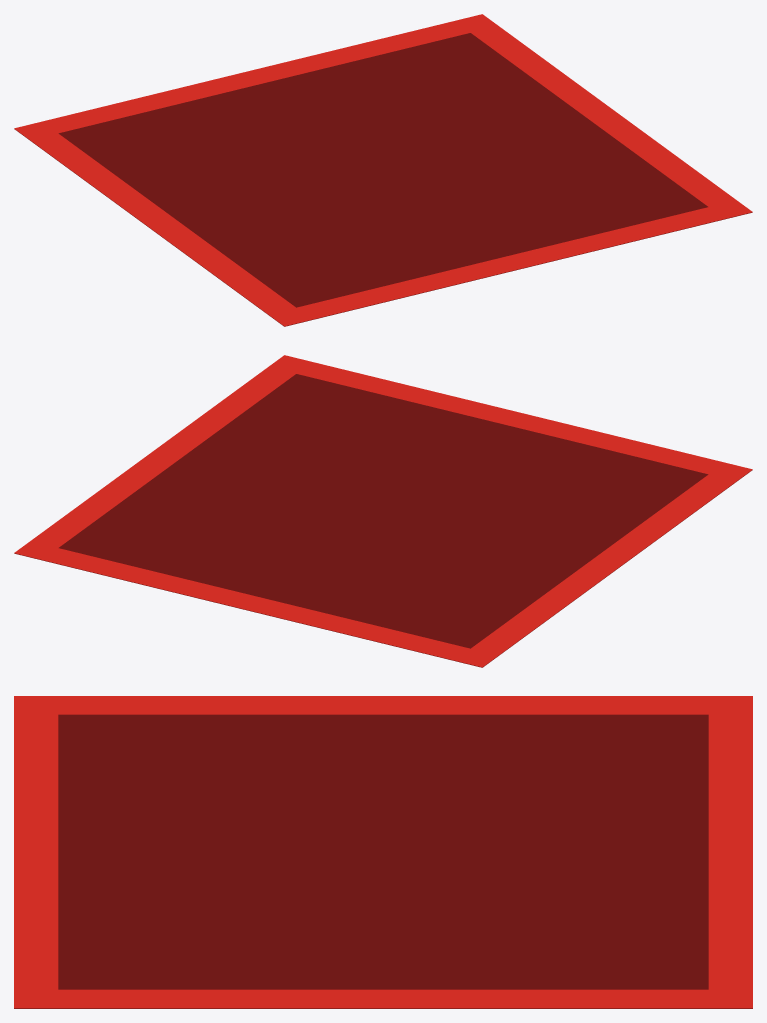
File: telegraph_square.glb
3 renders of one model, top to bottom at view 1: azimuth 30°, elevation 25°; view 2: azimuth 150°, elevation 25°; view 3: azimuth 270°, elevation 25°, orthographic. The views are drawn at different scales.
Parts seen in each view (by area): view 1: telegraph_square; view 2: telegraph_square; view 3: telegraph_square.
Boxes of the visible parts, <box> form: telegraph_square: <box>14,14,752,326</box>; telegraph_square: <box>14,355,752,667</box>; telegraph_square: <box>14,696,752,1008</box>.
Size of the model in its own units: 1 by 0.001 by 1.
Materials: 1 (1 with a texture image).
